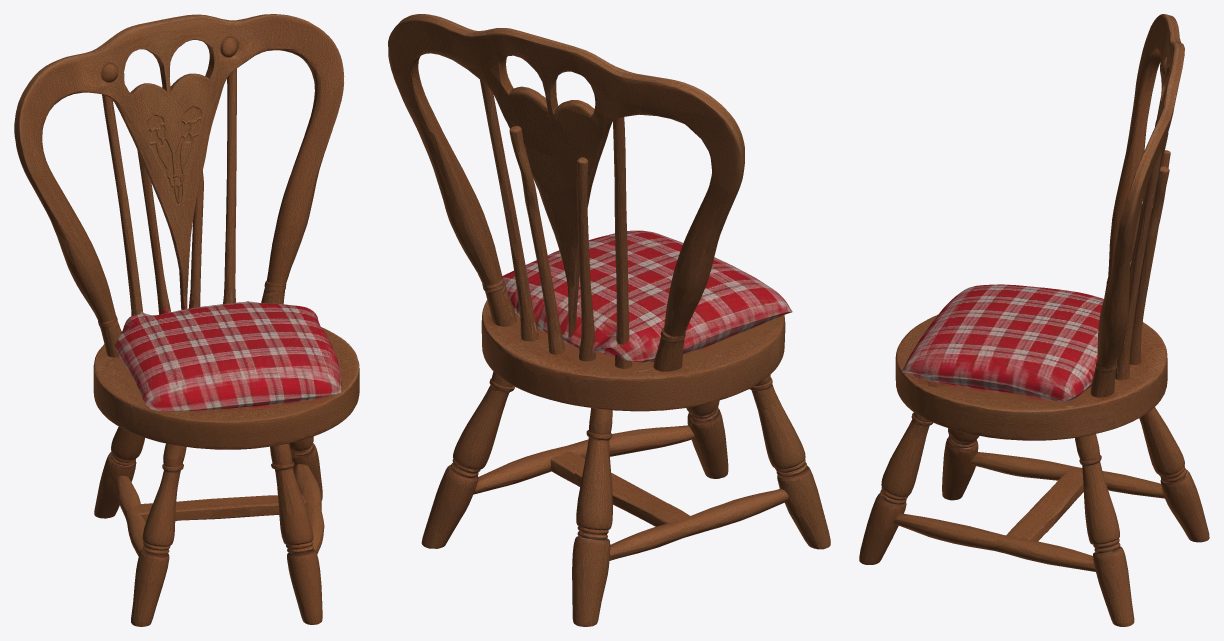
File: xmas_chair.glb
3 views of the same model, side by side, from view 1: azimuth 30°, elevation 25°; view 2: azimuth 150°, elevation 25°; view 3: azimuth 270°, elevation 25° (orthographic). The views are drawn at different scales.
Size of the model in its own units: 1.29 by 1.9 by 1.21.
1 material, 1 textured.
